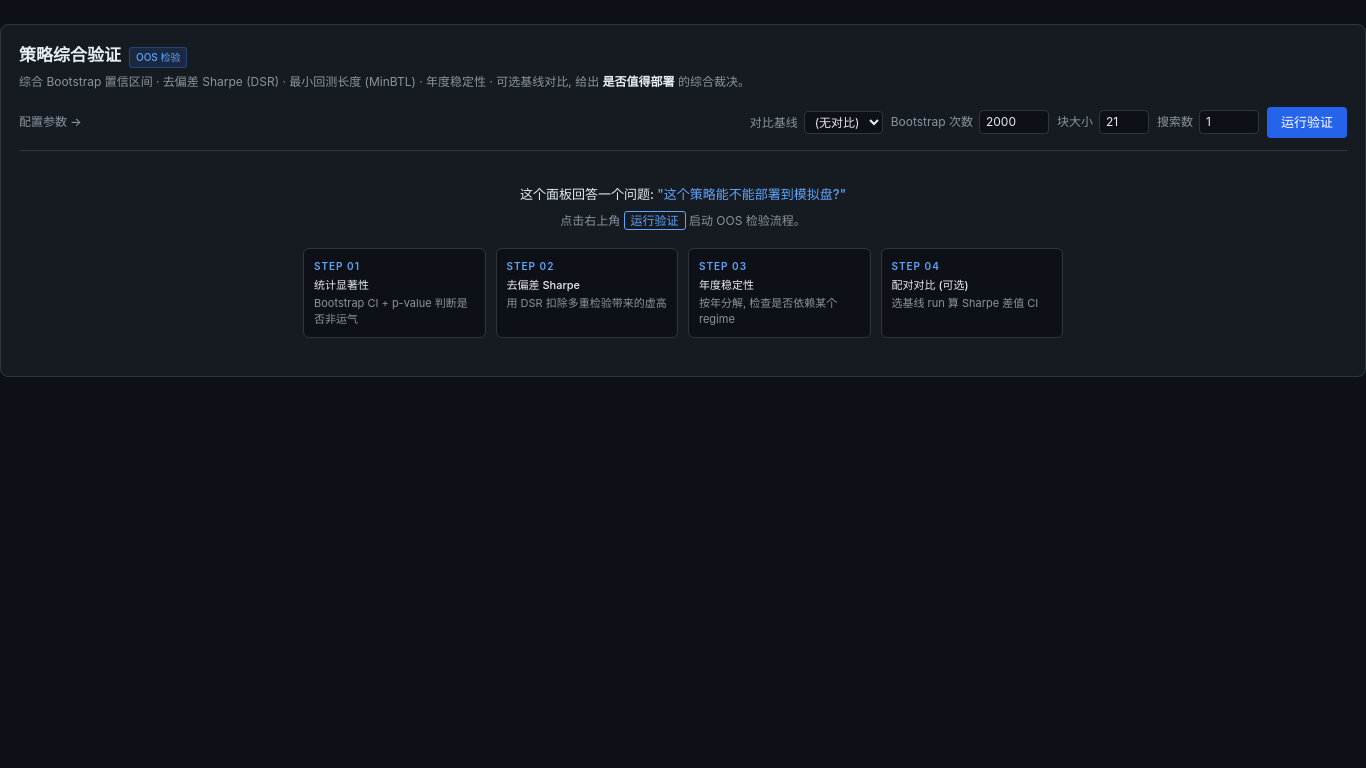
Test: ValidationPanel - ComparisonSection sign branch (V2.23.2 I7) › "差异不显著" when is_significant=false
Click the button "运行验证".
click(1307, 122)  # box top-left (1267, 106), bottom-right (1347, 138)
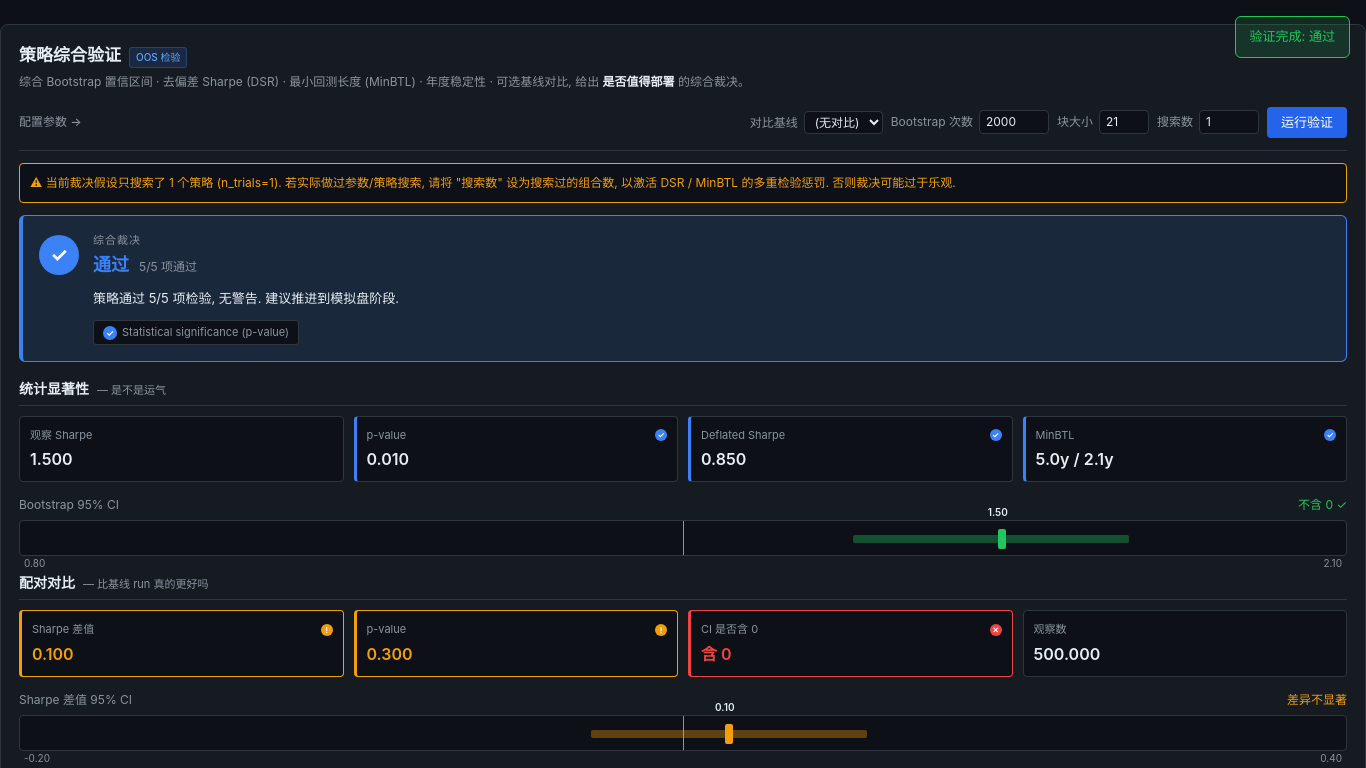
Check: the text "差异不显著" is shown, box top-left (1287, 691), bottom-right (1347, 709)
